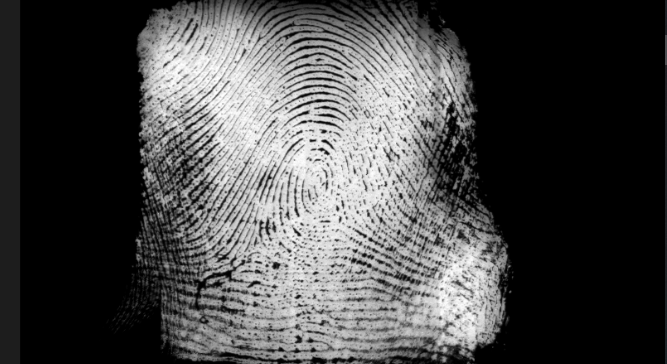nucelo: (301, 158, 335, 211)
verticilo: (239, 227, 274, 265), (418, 257, 447, 284)
